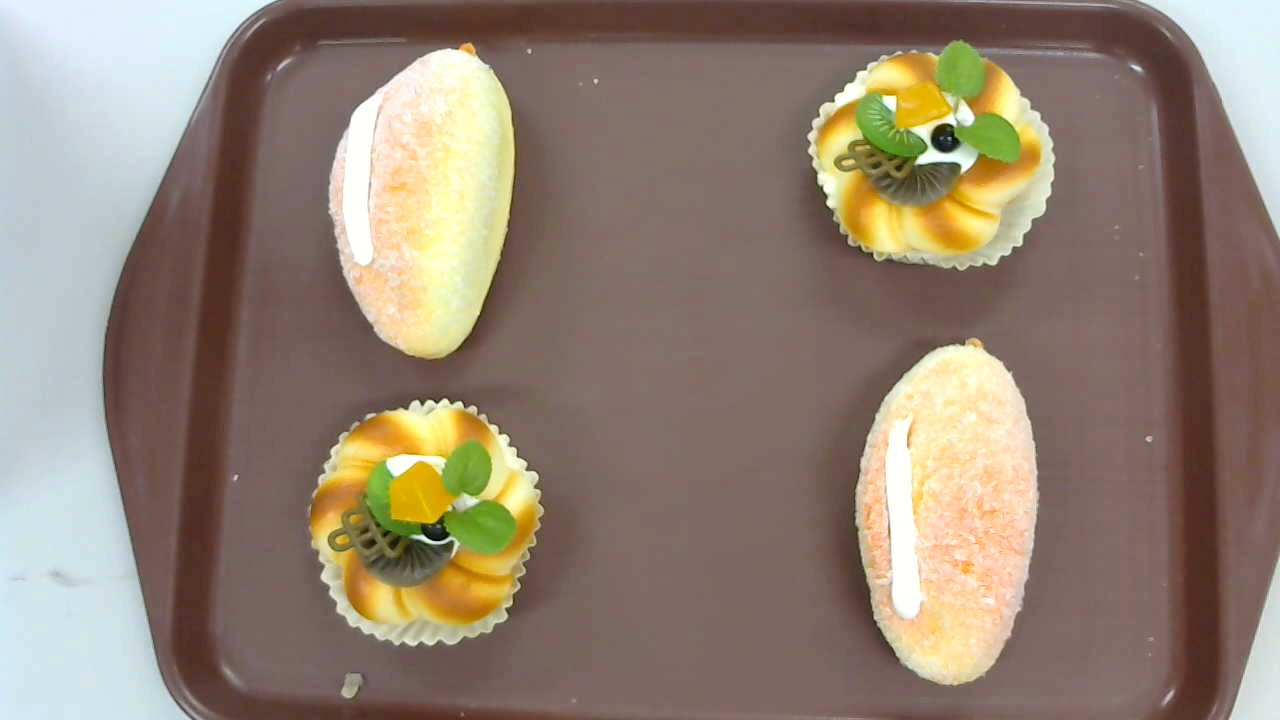coconut: (853, 336, 1038, 686), (329, 42, 516, 359)
fruit tart: (308, 397, 545, 647), (805, 38, 1056, 272)
